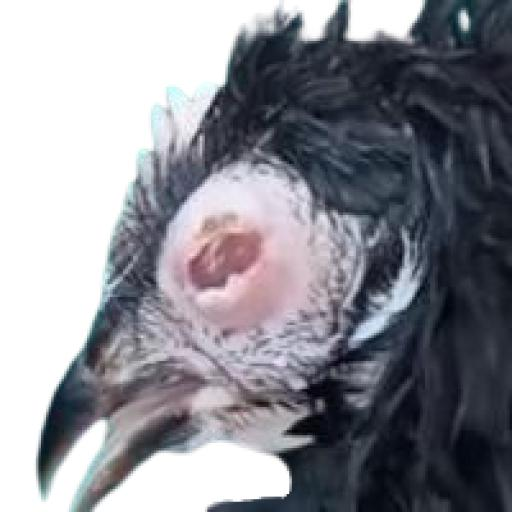disease: (145, 176, 316, 338)
